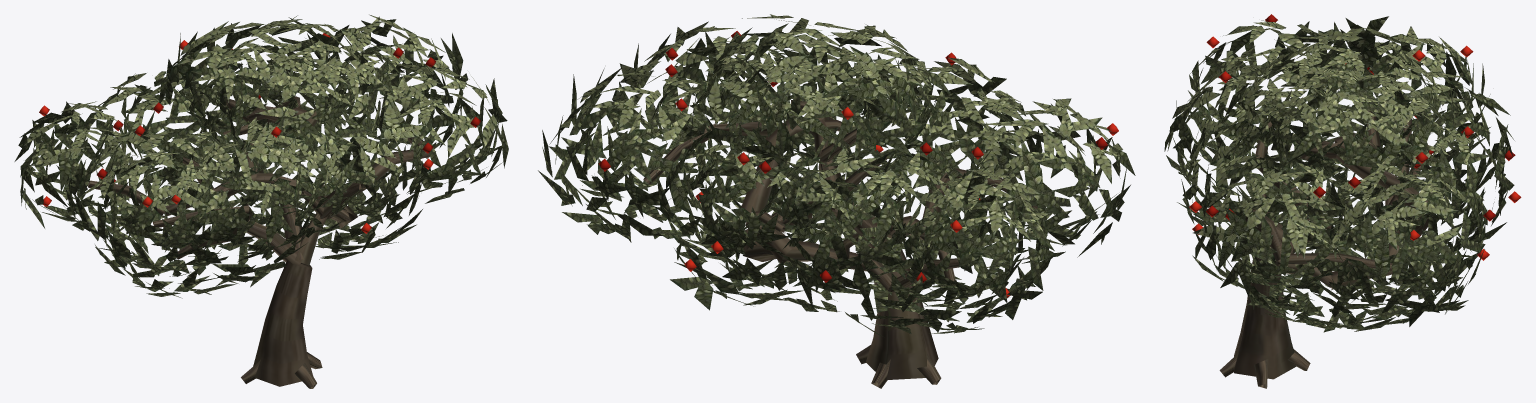
Rendered from tree_fruit_far.glb.
3 views of the same model, side by side, from view 1: azimuth 30°, elevation 25°; view 2: azimuth 150°, elevation 25°; view 3: azimuth 270°, elevation 25° (orthographic). The views are drawn at different scales.
Visible parts, largest first — view 1: tree_fruit_lod1; view 2: tree_fruit_lod1; view 3: tree_fruit_lod1.
Boxes of the visible parts, box(x1,y1,x2,y2) form: tree_fruit_lod1: box(14, 14, 508, 388); tree_fruit_lod1: box(538, 14, 1135, 388); tree_fruit_lod1: box(1164, 14, 1521, 388).
Bounding box in the file's own units: 4.37 × 3.08 × 2.92.
1 material, 1 textured.
